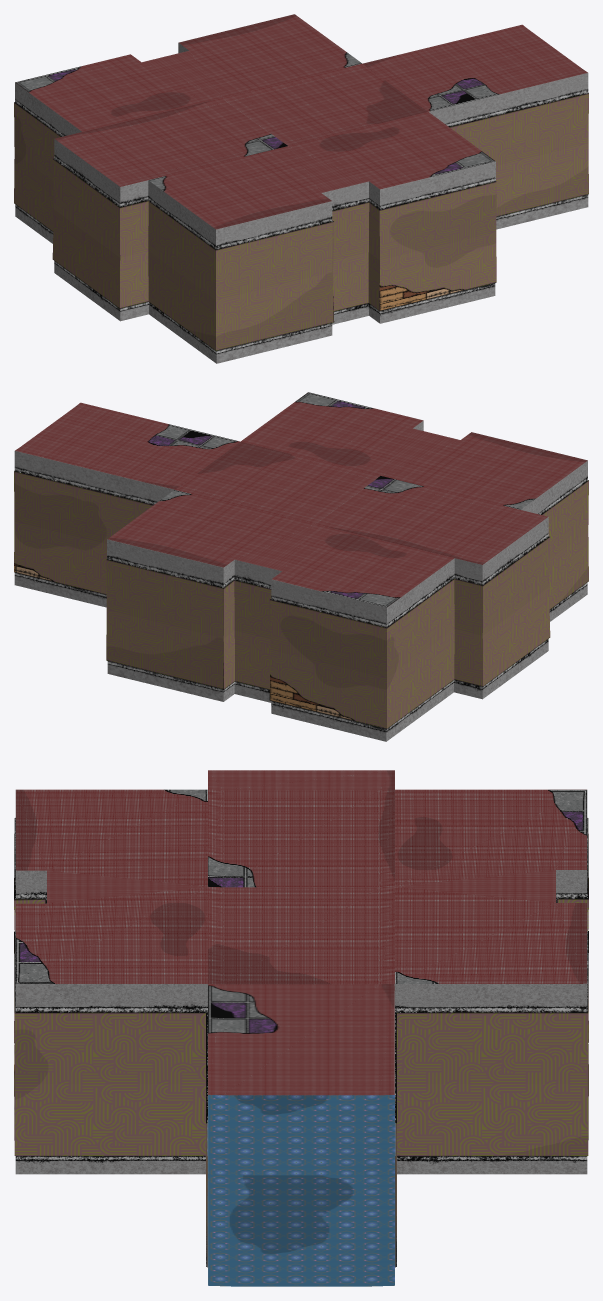
Rendered from corridoroffice.fbx.
The picture shows the model from 3 angles, top to bottom: view 1: azimuth 30°, elevation 25°; view 2: azimuth 150°, elevation 25°; view 3: azimuth 270°, elevation 25°; orthographic projection. The views are drawn at different scales.
Visible parts, largest first — view 1: CorridorOffice; view 2: CorridorOffice; view 3: CorridorOffice.
Boxes of the visible parts, bbox=[...] form: CorridorOffice: bbox=[14, 14, 588, 363]; CorridorOffice: bbox=[14, 392, 588, 741]; CorridorOffice: bbox=[14, 770, 588, 1286].
Bounding box in the file's own units: 1002 × 276 × 749.
